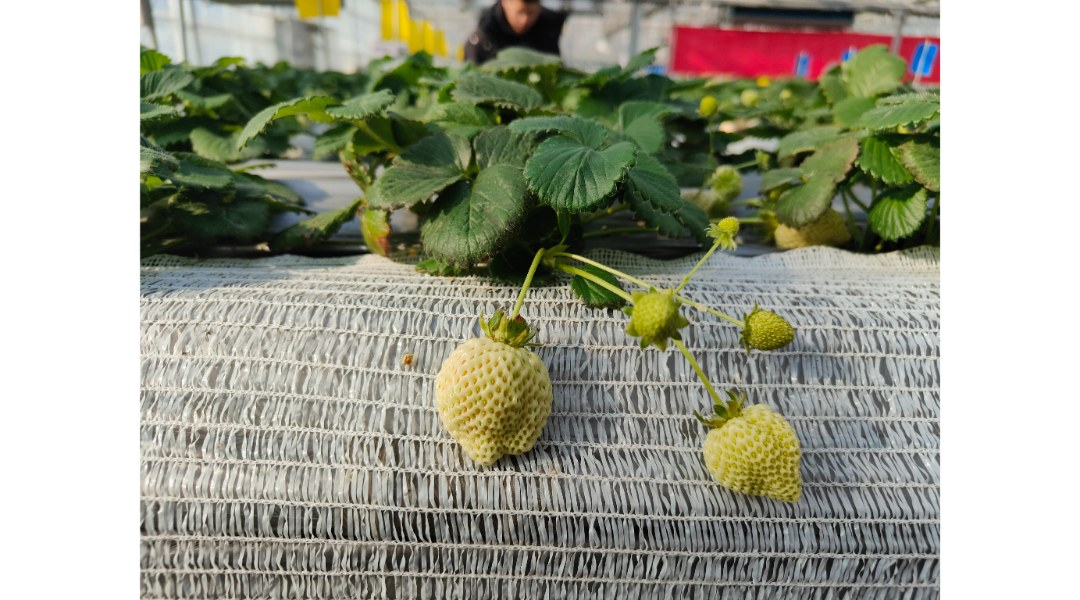berry: (423, 309, 545, 474), (688, 382, 820, 511), (617, 286, 682, 355), (734, 308, 805, 358), (701, 215, 761, 255)
strain: (567, 246, 663, 295), (491, 248, 540, 336), (677, 335, 729, 402)
